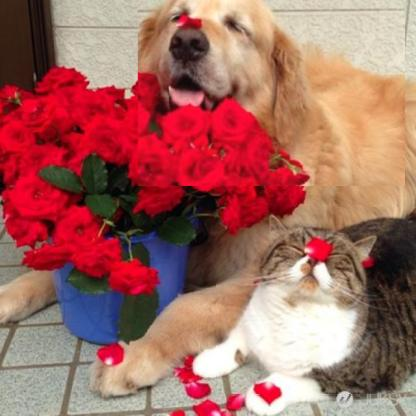cat: (216, 208, 408, 396)
dog: (138, 0, 405, 186)
